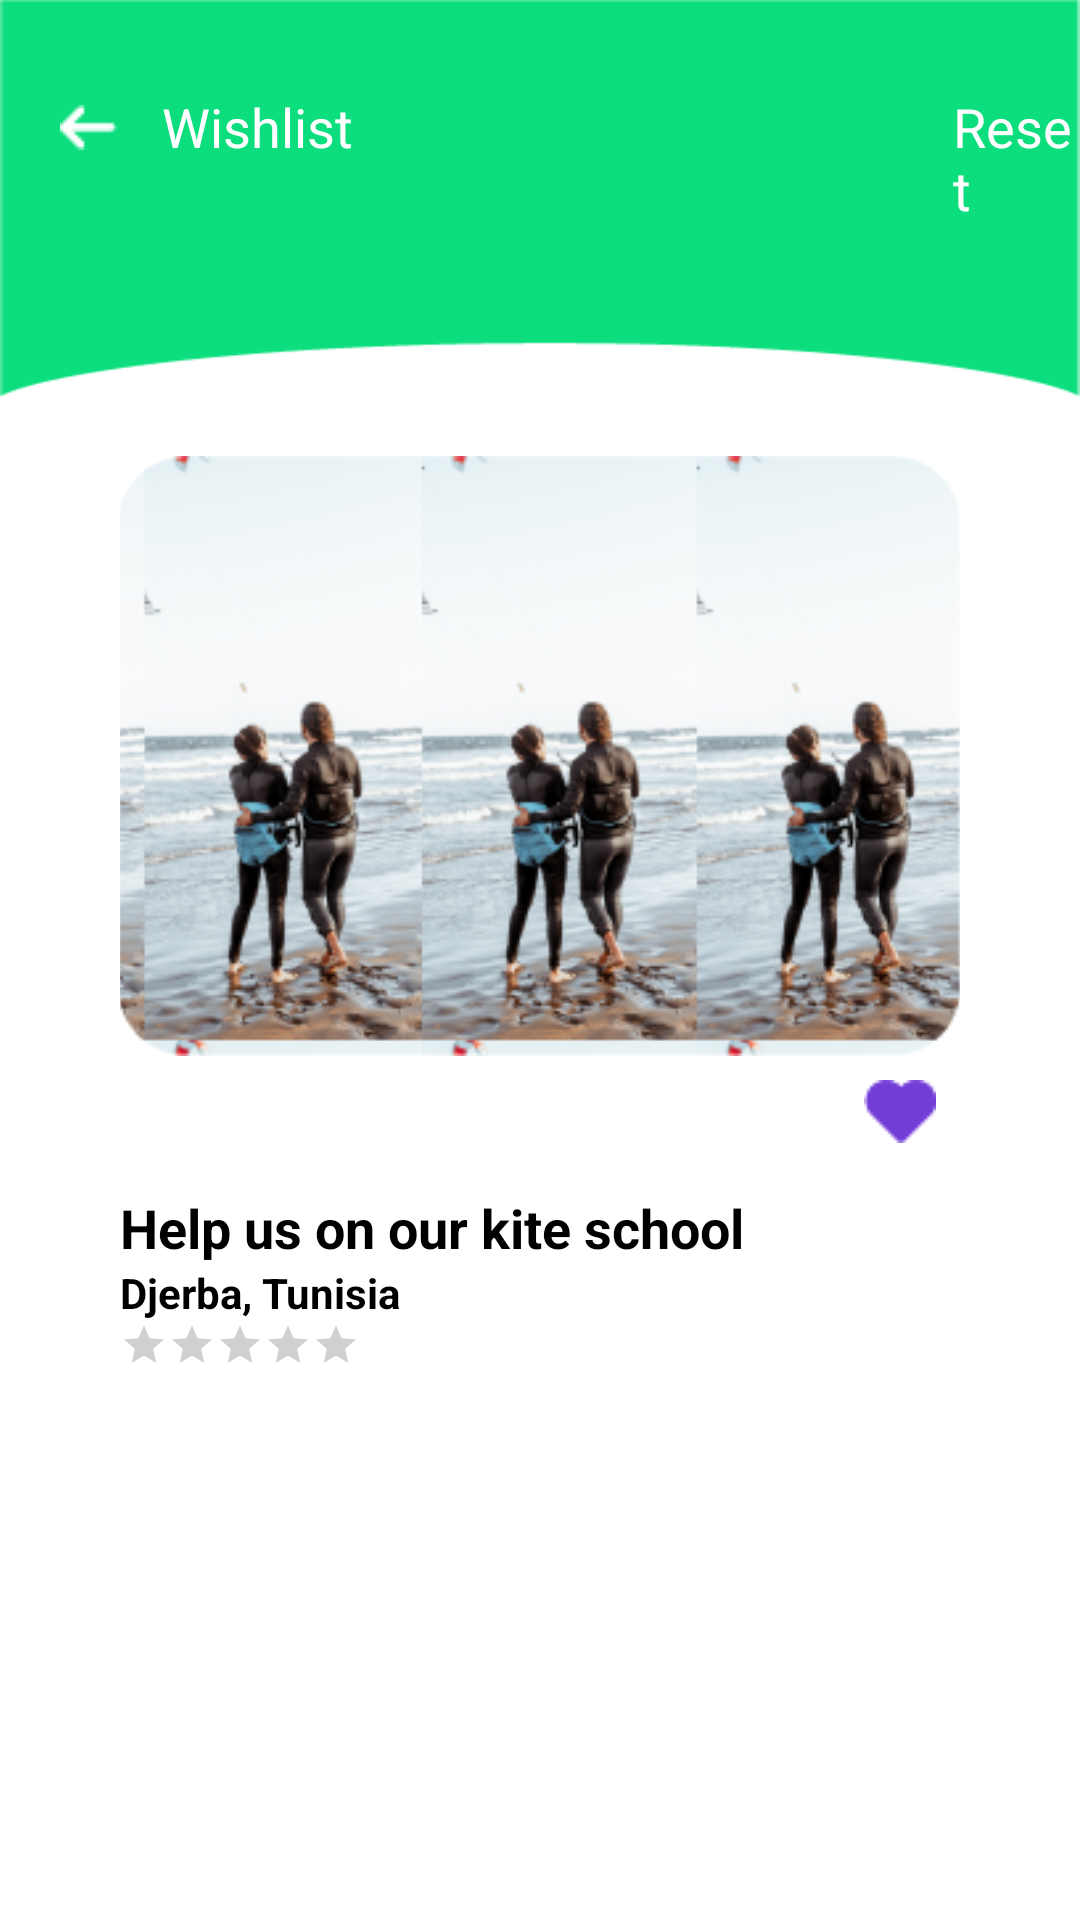

Where to tap for icons on this 1080 x 1920 app screen, as (x=x, y=y):
back arrow: (x=88, y=127)
heart full: (x=900, y=1111)
